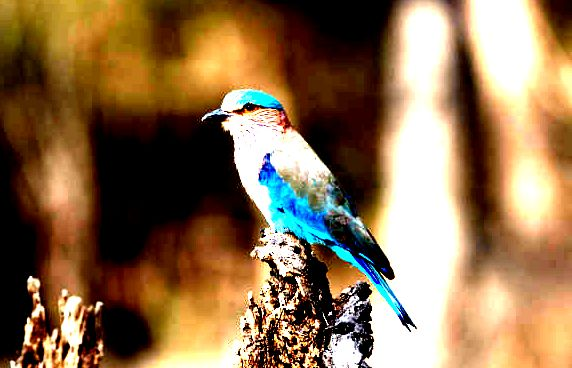Bird: (199, 84, 421, 332)
